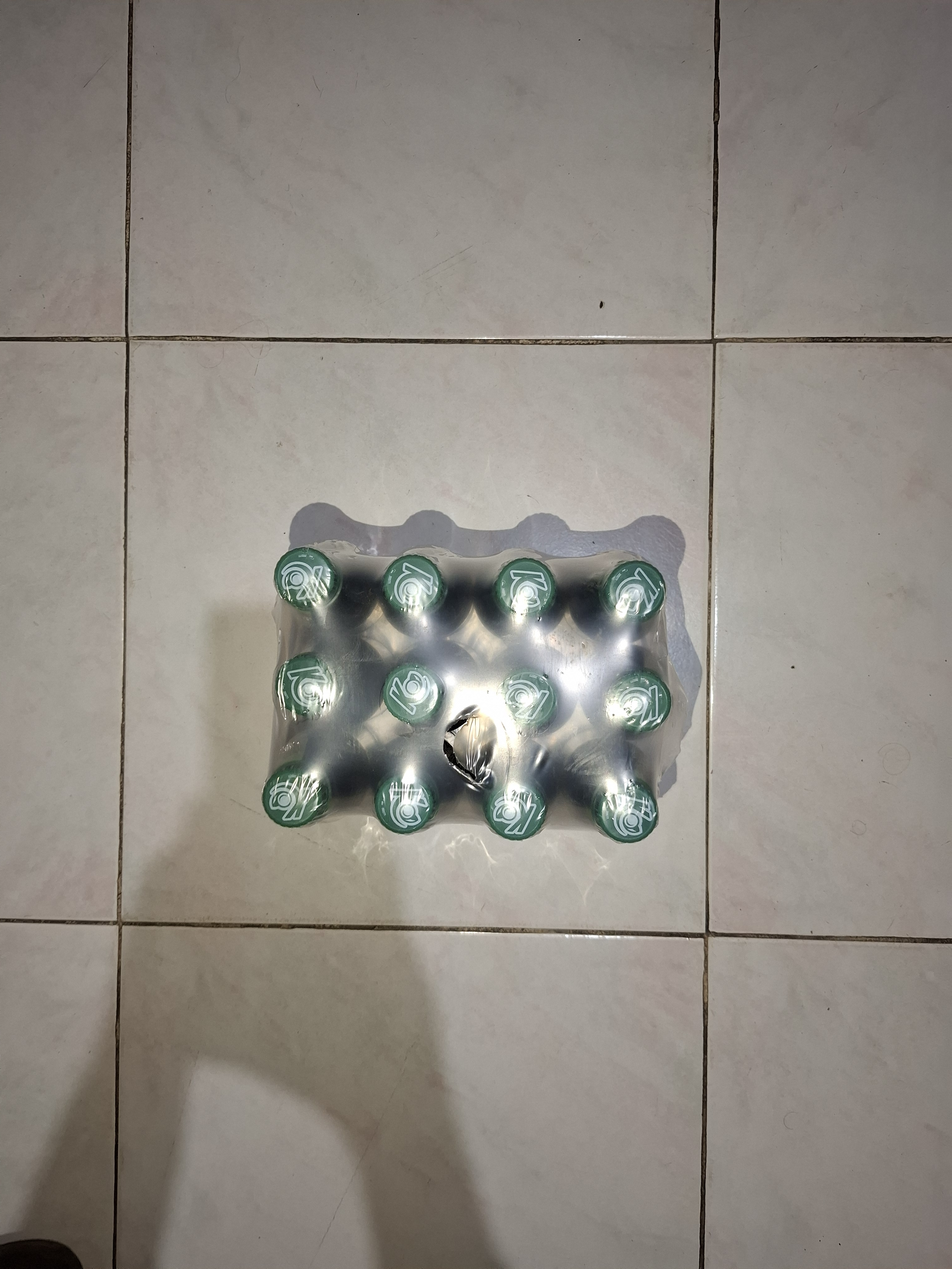Tampa Refrigerante Kuat: (271, 642, 342, 728), (591, 771, 666, 848), (597, 667, 672, 739), (495, 662, 563, 737), (260, 754, 327, 829), (482, 770, 549, 843), (373, 764, 436, 838), (272, 543, 339, 611), (381, 547, 446, 617), (604, 558, 669, 628), (496, 554, 558, 627), (383, 661, 445, 729)
